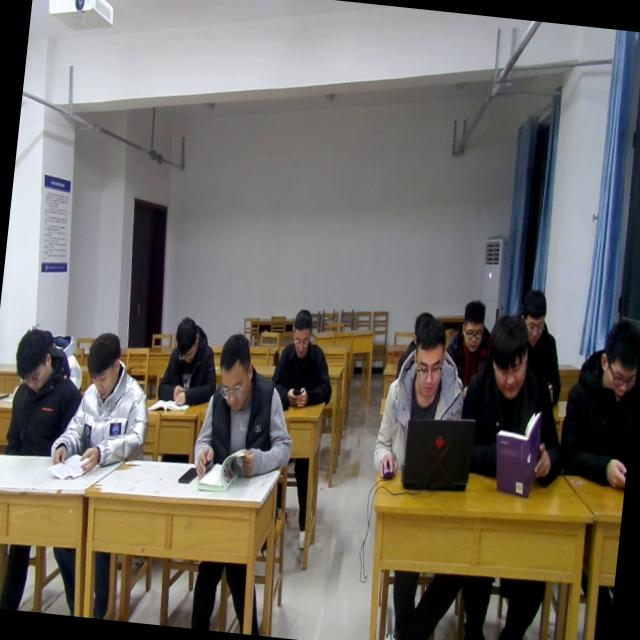down: (479, 306, 533, 404), (591, 306, 640, 405), (406, 307, 450, 403), (211, 327, 258, 416), (80, 326, 126, 404), (10, 321, 56, 396), (516, 280, 552, 348), (455, 294, 490, 354), (169, 312, 201, 368), (286, 305, 316, 359)
sit: (454, 305, 572, 492), (368, 308, 474, 491), (185, 332, 299, 489), (46, 327, 156, 480), (559, 308, 640, 486), (0, 318, 78, 460), (272, 306, 339, 411), (155, 308, 220, 408), (511, 284, 573, 382), (447, 290, 495, 378)
